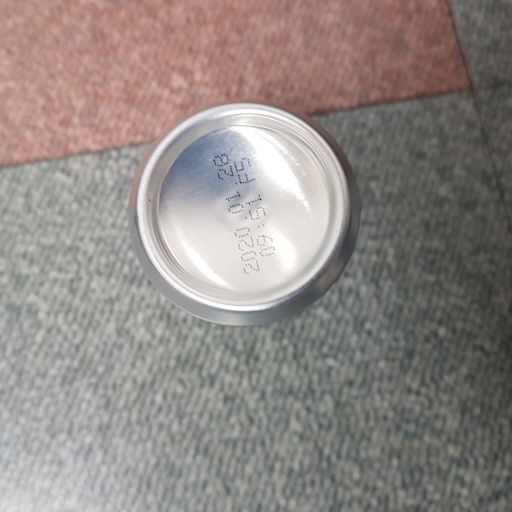Metal_0: (128, 99, 363, 330)
